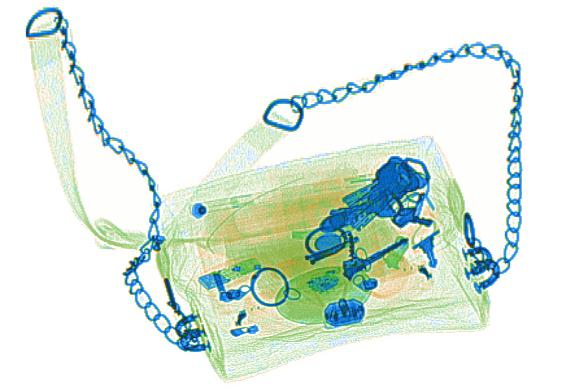USBFlashDisk: (197, 255, 260, 288)
